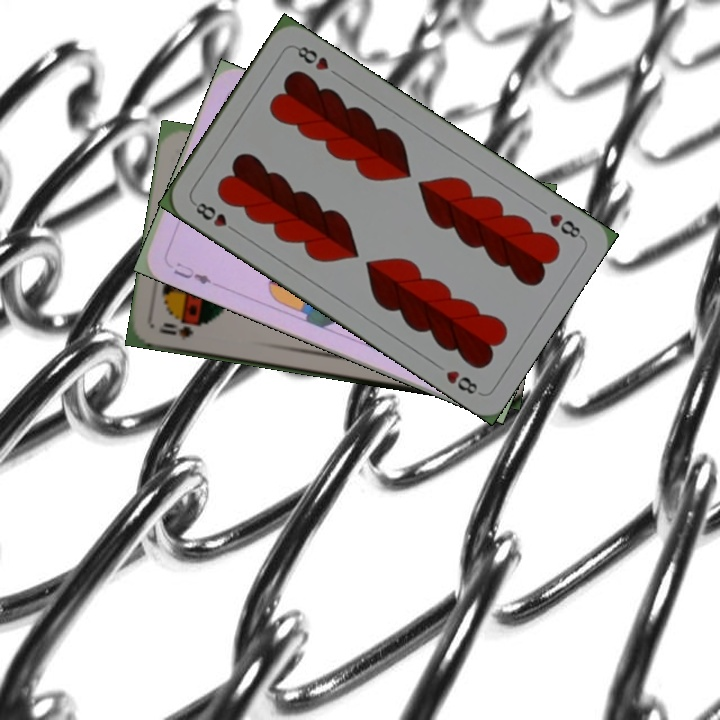EU: (169, 258, 214, 287)
H8: (189, 198, 241, 236), (545, 209, 586, 241)
SO: (155, 318, 204, 343)
